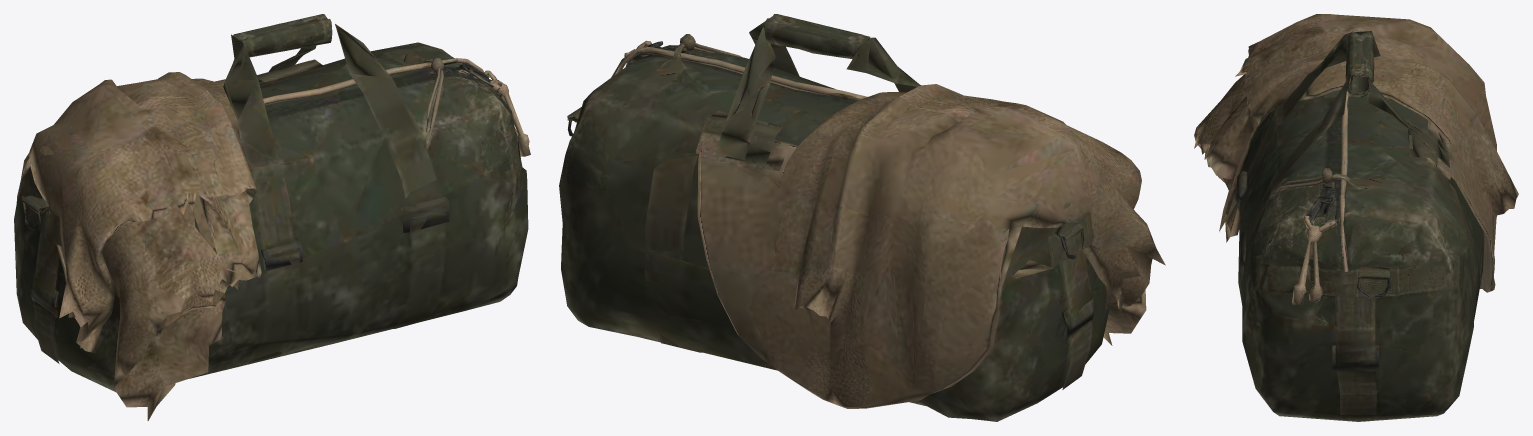
Rendered from salvage-stash_duffel_prop.glb.
3 renders of one model, left to right at view 1: azimuth 30°, elevation 25°; view 2: azimuth 150°, elevation 25°; view 3: azimuth 270°, elevation 25°, orthographic. The views are drawn at different scales.
Parts seen in each view (by area): view 1: Meshy_AI_stash_duffel_prop_3d_20261028_texture; view 2: Meshy_AI_stash_duffel_prop_3d_20261028_texture; view 3: Meshy_AI_stash_duffel_prop_3d_20261028_texture.
Part boxes in pixels (x1,y1,x2,y2): Meshy_AI_stash_duffel_prop_3d_20261028_texture: [14, 14, 530, 420]; Meshy_AI_stash_duffel_prop_3d_20261028_texture: [559, 14, 1165, 421]; Meshy_AI_stash_duffel_prop_3d_20261028_texture: [1194, 14, 1518, 421].
Size of the model in its own units: 0.7992 by 0.4586 by 0.4692.
Materials: 1 (1 with a texture image).
